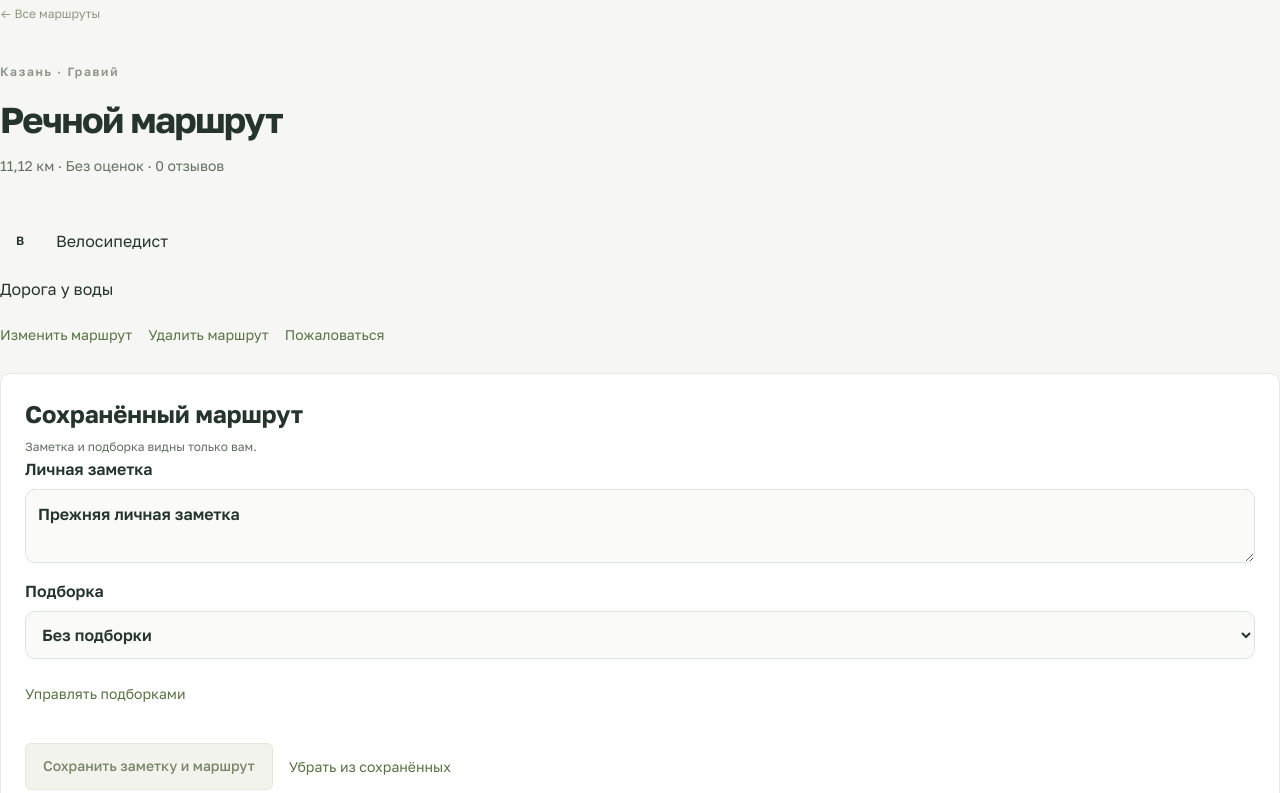
Test: private route notes survive a failed save and can be retried without reloading the page
Later steps or results of the test are not shown.
Replace the text in the text box labelled "Личная заметка" with "Заехать за водой до старта" at (640, 526), box 25,489 -> 1255,563
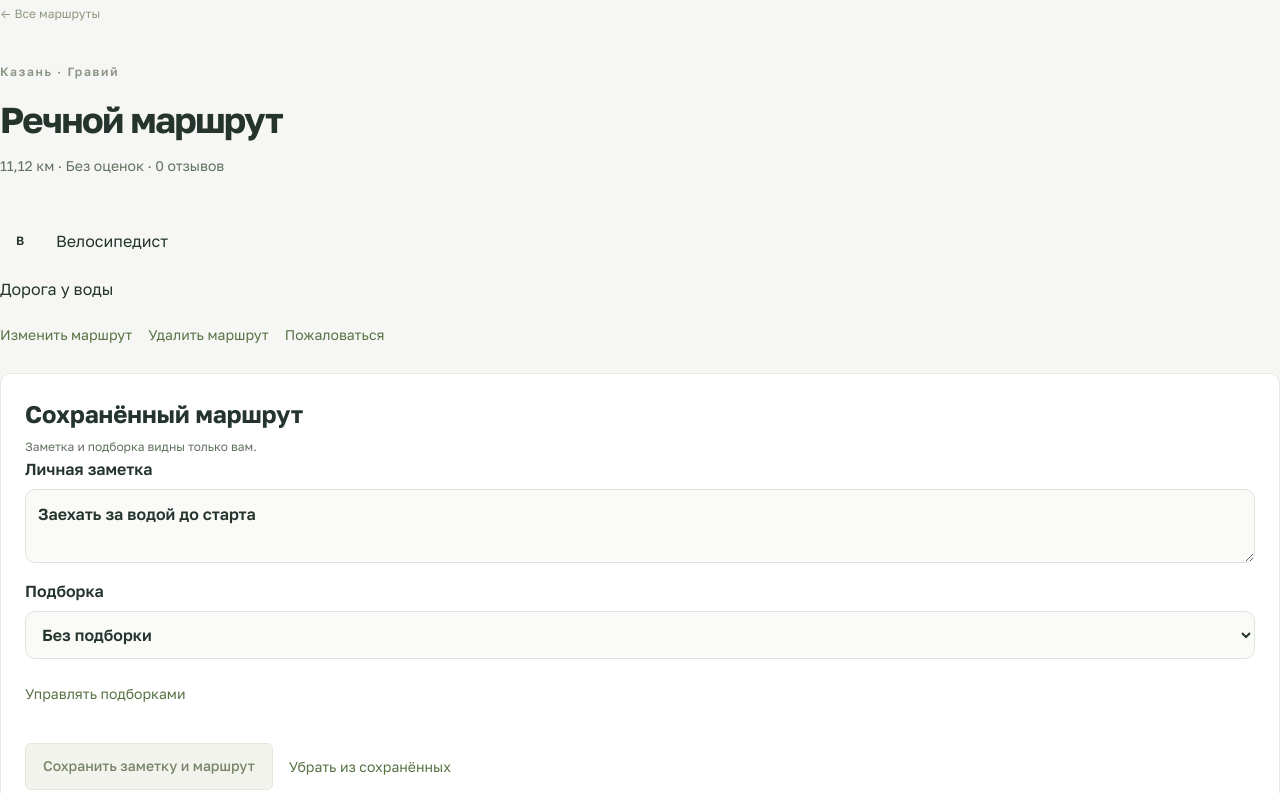
Select "Выходные" in the dropdown labelled "Подборка" at (640, 635), box 25,611 -> 1255,659
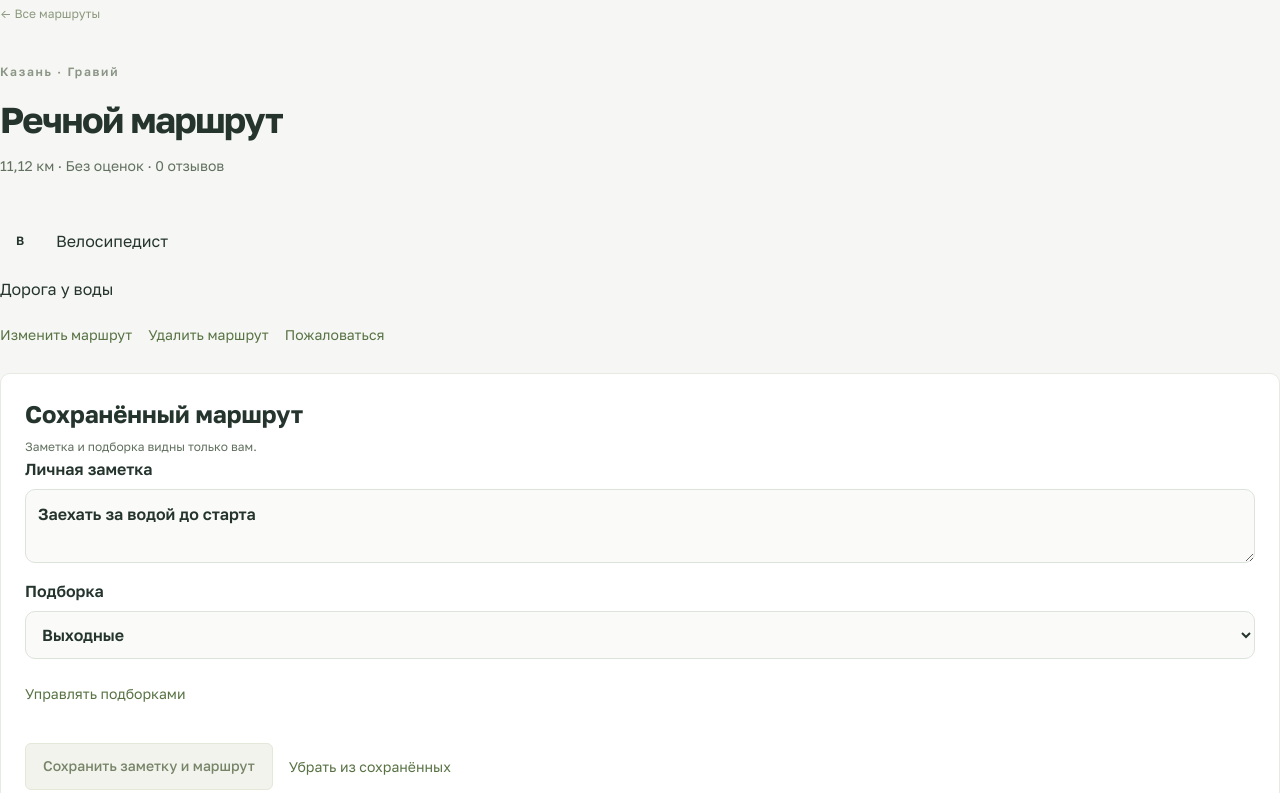
Click the button "Сохранить заметку и маршрут" at (149, 767), box 25,743 -> 273,790
(page scrolled)
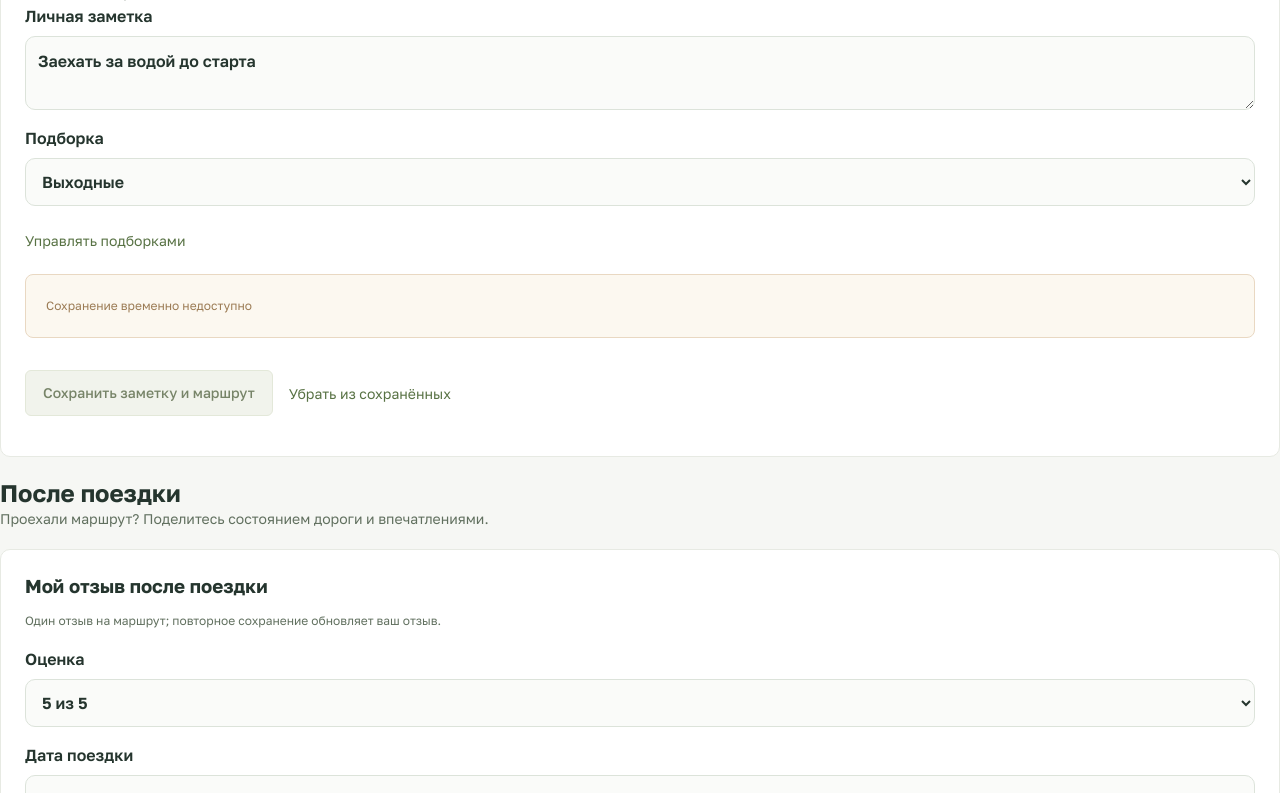
Expected: the text "Сохранение временно недоступно" is shown, 46,298 -> 252,313
